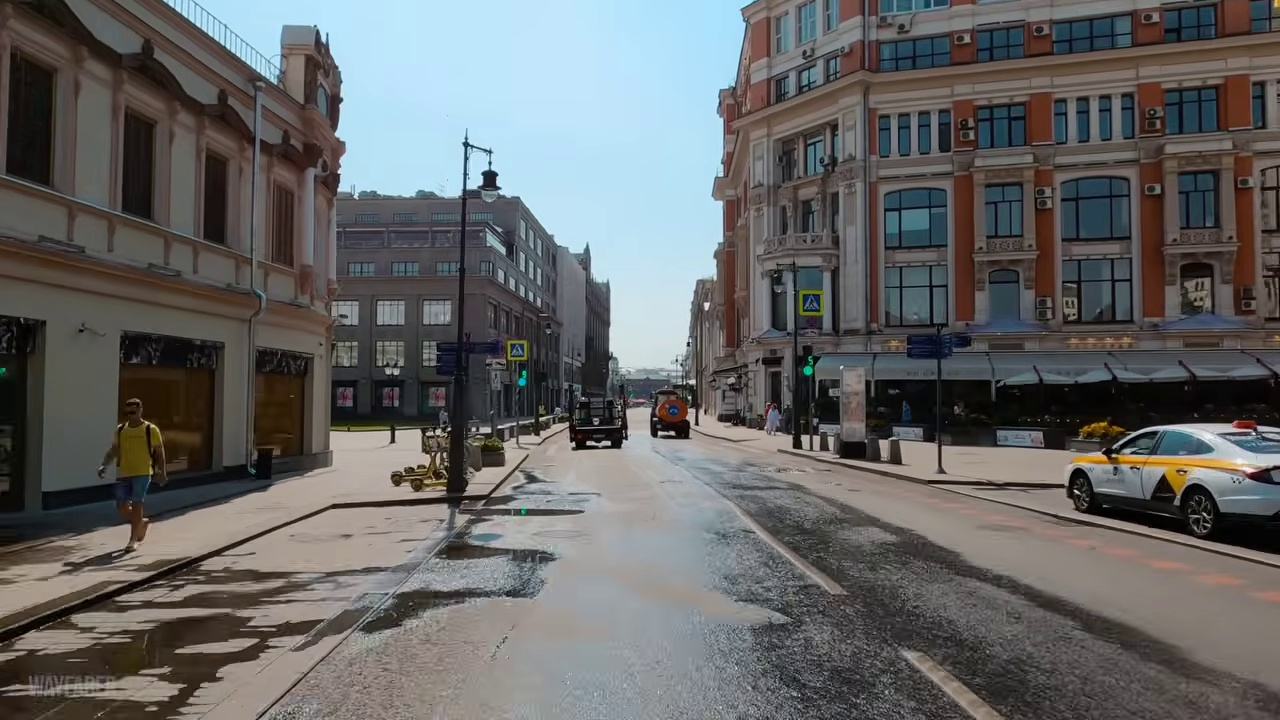apagada: (478, 166, 505, 210)
